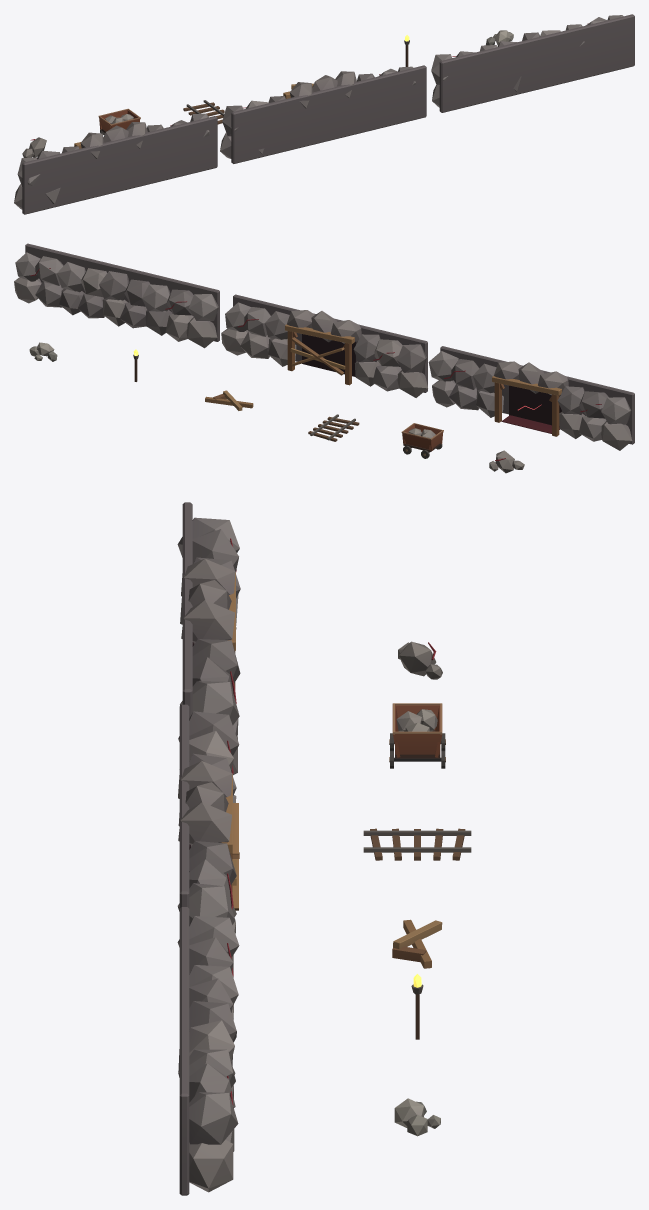
File: blood_mine.glb
The picture shows the model from 3 angles, top to bottom: view 1: azimuth 30°, elevation 25°; view 2: azimuth 150°, elevation 25°; view 3: azimuth 270°, elevation 25°; orthographic projection. The views are drawn at different scales.
Parts seen in each view (by area): view 1: BM_EntranceBoarded__Body, BM_EntranceOpen__Body, BM_RockWall__Body, BM_Minecart__Body, BM_RailBroken__Body, BM_OreCluster__Body; view 2: BM_EntranceOpen__Body, BM_RockWall__Body, BM_EntranceBoarded__Body, BM_Minecart__Body, BM_RailBroken__Body, BM_OreCluster__Body, BM_TimberPile__Body, SH_Rubble__Body; view 3: BM_RockWall__Body, BM_EntranceBoarded__Body, BM_EntranceOpen__Body, BM_Minecart__Body, BM_RailBroken__Body, BM_TimberPile__Body, BM_OreCluster__Body, SH_Rubble__Body.
Boxes of the visible parts, <box> form: BM_EntranceBoarded__Body: <box>220,65,426,163</box>; BM_EntranceOpen__Body: <box>14,113,217,214</box>; BM_RockWall__Body: <box>431,14,634,112</box>; BM_Minecart__Body: <box>98,108,140,135</box>; BM_RailBroken__Body: <box>183,100,224,124</box>; BM_OreCluster__Body: <box>22,137,46,157</box>; BM_EntranceOpen__Body: <box>428,346,634,450</box>; BM_RockWall__Body: <box>14,243,219,348</box>; BM_EntranceBoarded__Body: <box>221,294,427,397</box>; BM_Minecart__Body: <box>401,423,443,458</box>; BM_RailBroken__Body: <box>308,414,359,441</box>; BM_OreCluster__Body: <box>489,450,524,473</box>; BM_TimberPile__Body: <box>205,390,253,410</box>; SH_Rubble__Body: <box>29,342,57,361</box>; BM_RockWall__Body: <box>177,907,239,1195</box>; BM_EntranceBoarded__Body: <box>177,704,239,977</box>; BM_EntranceOpen__Body: <box>177,502,240,774</box>; BM_Minecart__Body: <box>389,703,445,768</box>; BM_RailBroken__Body: <box>363,828,471,860</box>; BM_TimberPile__Body: <box>392,919,442,968</box>; BM_OreCluster__Body: <box>398,641,442,679</box>; SH_Rubble__Body: <box>394,1098,440,1136</box>.
Size of the model in its own units: 172 by 16.7 by 35.5.
